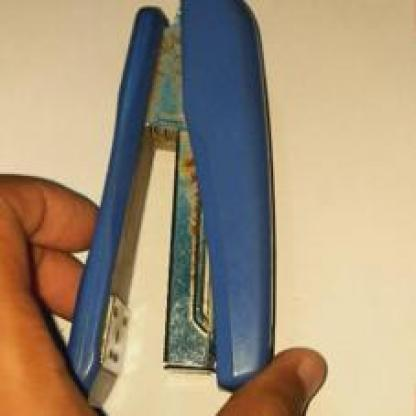stapler: (72, 0, 310, 383)
